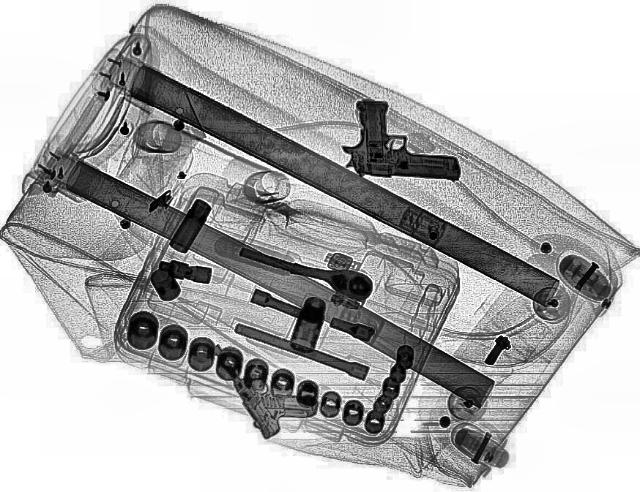Gun: (200, 327, 330, 439), (335, 98, 467, 182)
